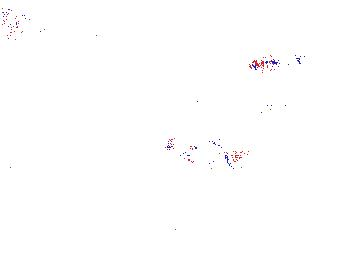X-ray fish: (1, 2, 58, 49)
red belly glassfish: (249, 54, 302, 74), (254, 100, 296, 120)
redtail glassfish: (164, 132, 247, 173)
